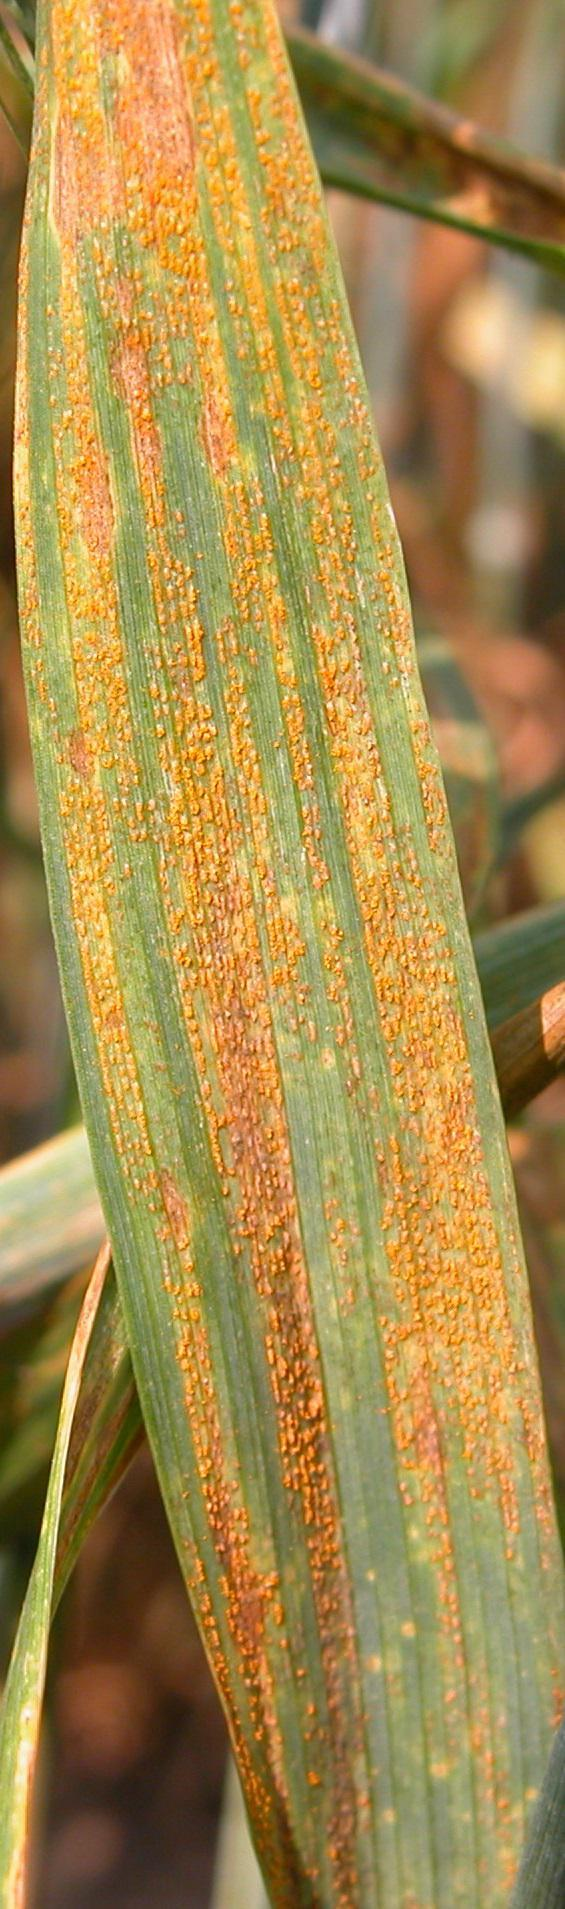Wheat: (65, 833, 546, 1569), (38, 40, 427, 800)
